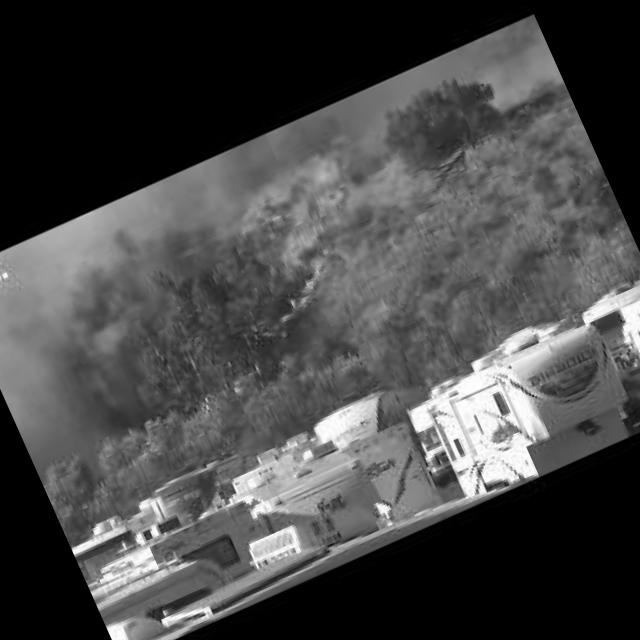fire: (185, 134, 395, 349)
